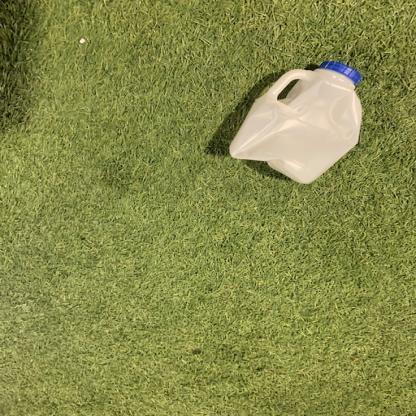trash: (223, 61, 364, 193)
